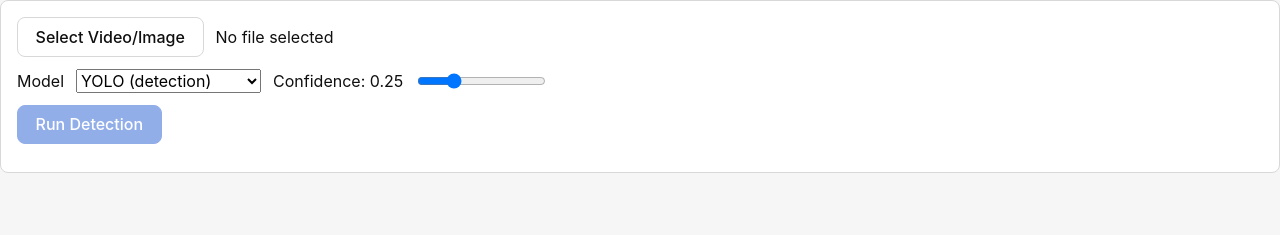
Test: DetectPage › while the job is pending, disables the submit button and shows a spinner
Click the button "Select Video/Image" at (110, 37), box [17,17,204,57]
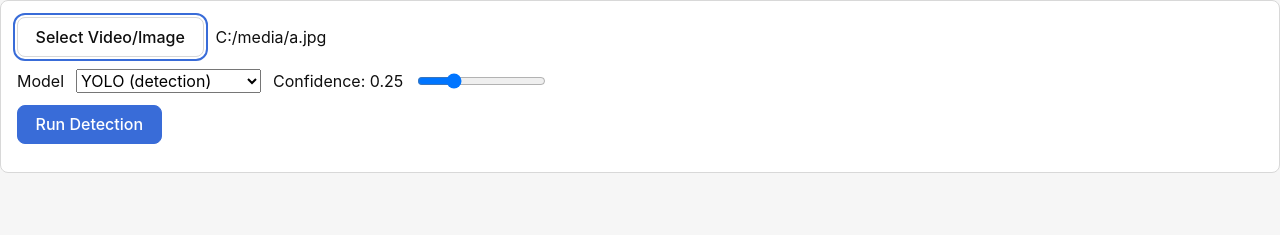
Expected: the text "C:/media/a.jpg" is shown, [216,25,326,49]
Click the button "Run Detection" at (89, 124), box [17,105,162,144]
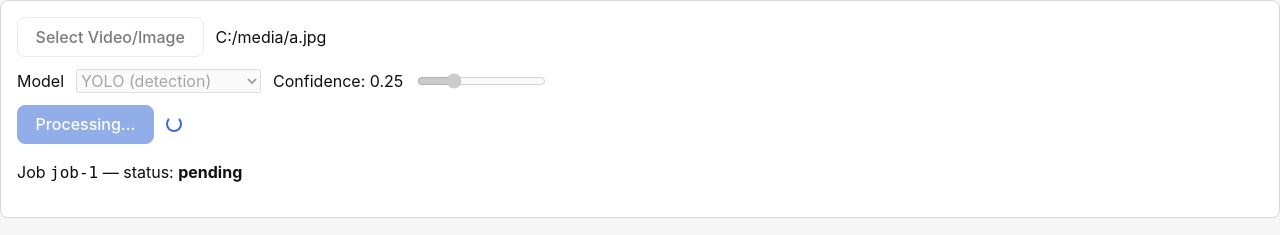
Expected: the button "Processing..." is disabled, [17,105,154,144]
Expected: the message named "Loading" is shown, [166,116,182,132]
